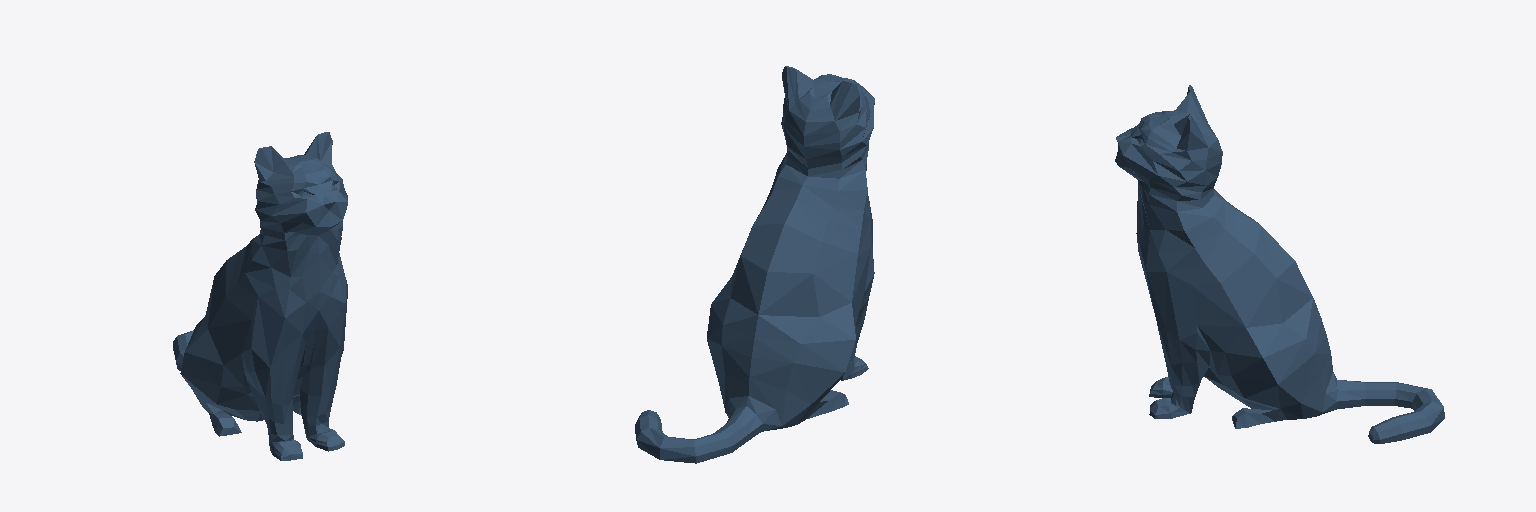
File: cat.obj
3 views of the same model, side by side, from view 1: azimuth 30°, elevation 25°; view 2: azimuth 150°, elevation 25°; view 3: azimuth 270°, elevation 25° (orthographic).
Parts seen in each view (by area): view 1: obj1_Mesh; view 2: obj1_Mesh; view 3: obj1_Mesh.
Part boxes in pixels (x1,y1,x2,y2): obj1_Mesh: (173, 132, 347, 460); obj1_Mesh: (635, 66, 874, 463); obj1_Mesh: (1115, 85, 1444, 443).
Bounding box in the file's own units: 3.77 × 6.78 × 6.76.